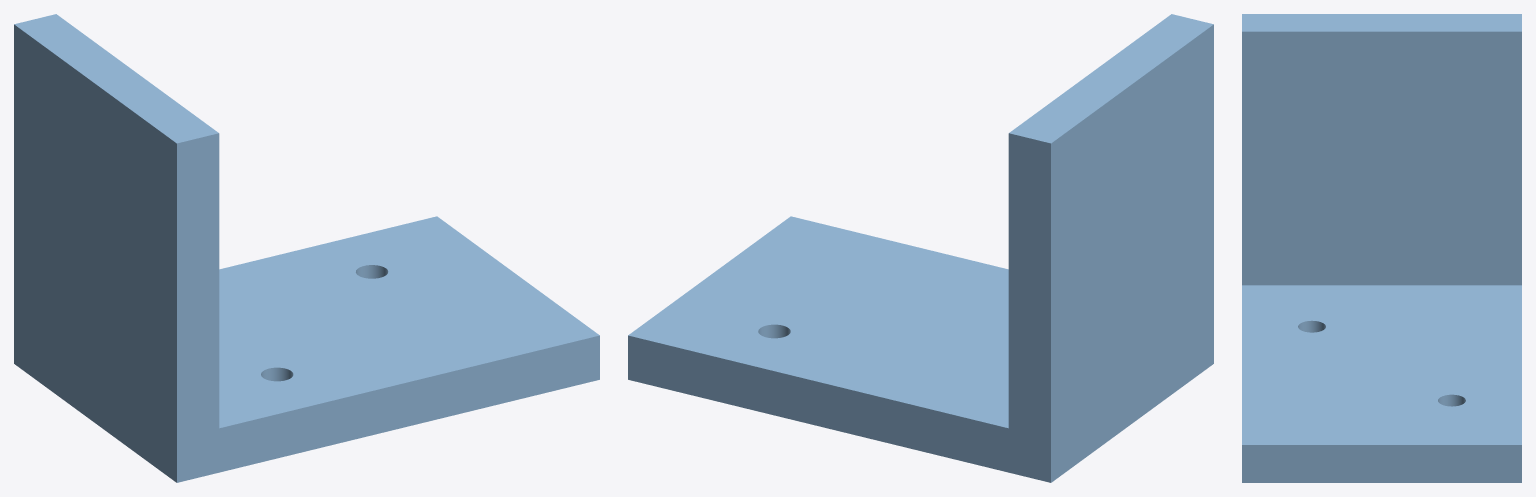
File: design.glb
3 renders of one model, left to right at view 1: azimuth 30°, elevation 25°; view 2: azimuth 150°, elevation 25°; view 3: azimuth 270°, elevation 25°, orthographic. The views are drawn at different scales.
Visible parts, largest first — view 1: SOLID; view 2: SOLID; view 3: SOLID.
Boxes of the visible parts, x1,y1,x2,y2 form: SOLID: (14,14,599,482); SOLID: (628,14,1213,482); SOLID: (1242,14,1521,482).
Bounding box in the file's own units: 60 × 46 × 40.
